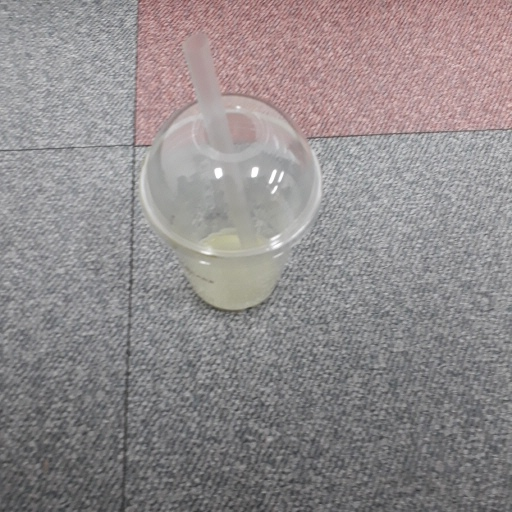Plastic_2: (139, 36, 327, 313)
